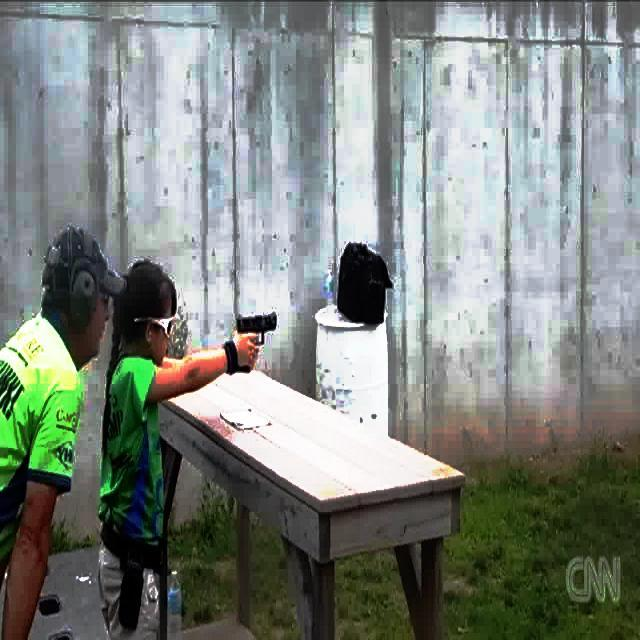Gun: (232, 299, 284, 365)
